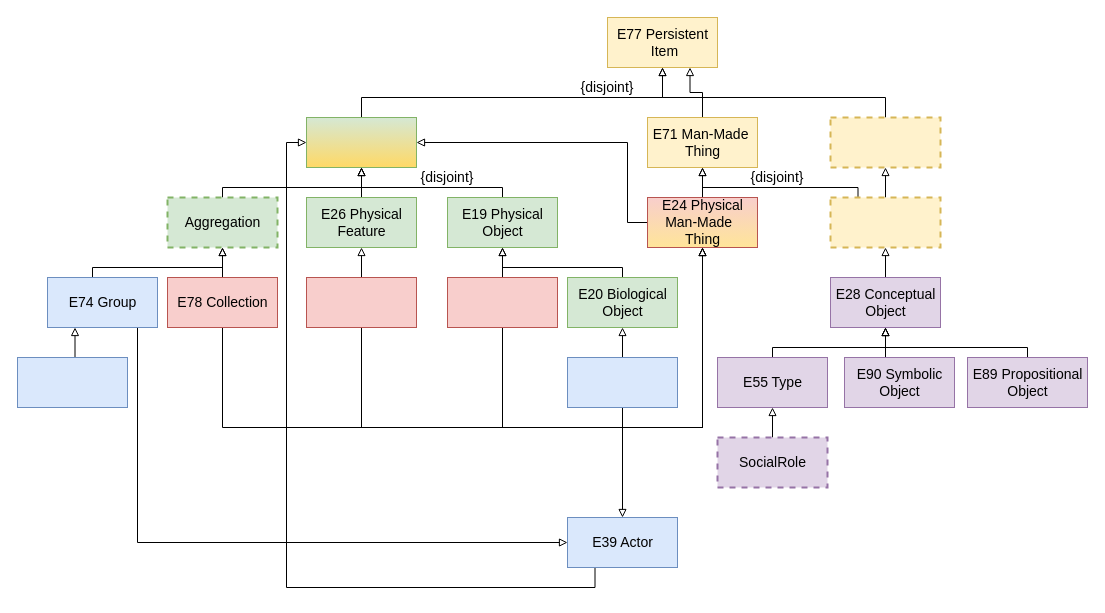
Some shapes in this 1105 by 613 pixel diagram are drawn without their labels. The box of each missing label's shape, as (x1, y1, x2, y2) in pixels:
E18 Physical Thing: (306, 116, 416, 168)
E21 Person: (566, 356, 678, 408)
E22 Man-Made Object: (446, 276, 558, 328)
E25 Man-Made Feature: (306, 276, 416, 328)
E40 Legal Body: (16, 356, 128, 408)
NonPhysical ManMade Thing: (829, 196, 941, 248)
NonPhysical Thing: (829, 116, 941, 168)
